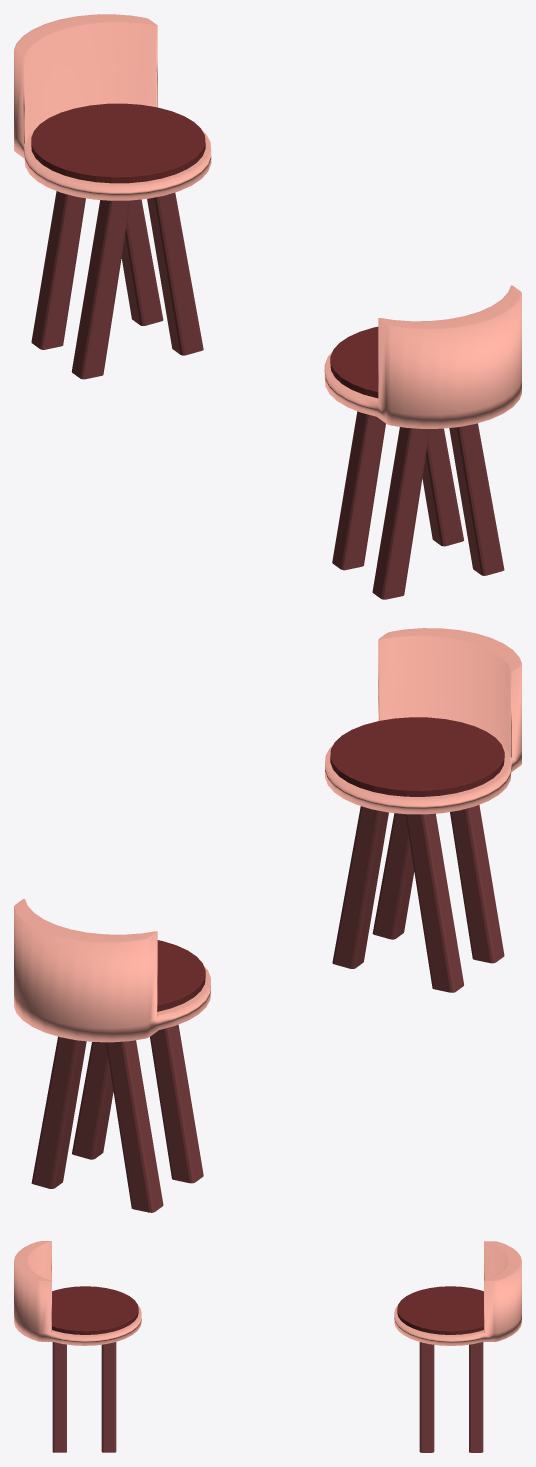
Rendered from chair_2x1.fbx.
3 renders of one model, top to bottom at view 1: azimuth 30°, elevation 25°; view 2: azimuth 150°, elevation 25°; view 3: azimuth 270°, elevation 25°, orthographic. The views are drawn at different scales.
Visible parts, largest first — view 1: sandalye_2x1; view 2: sandalye_2x1; view 3: sandalye_2x1.
Boxes of the visible parts, left/top/right/bottom form: sandalye_2x1: left=14, top=14, right=521, bottom=599; sandalye_2x1: left=14, top=628, right=521, bottom=1212; sandalye_2x1: left=14, top=1241, right=521, bottom=1452.
Size of the model in its own units: 48.12 by 80.87 by 214.
